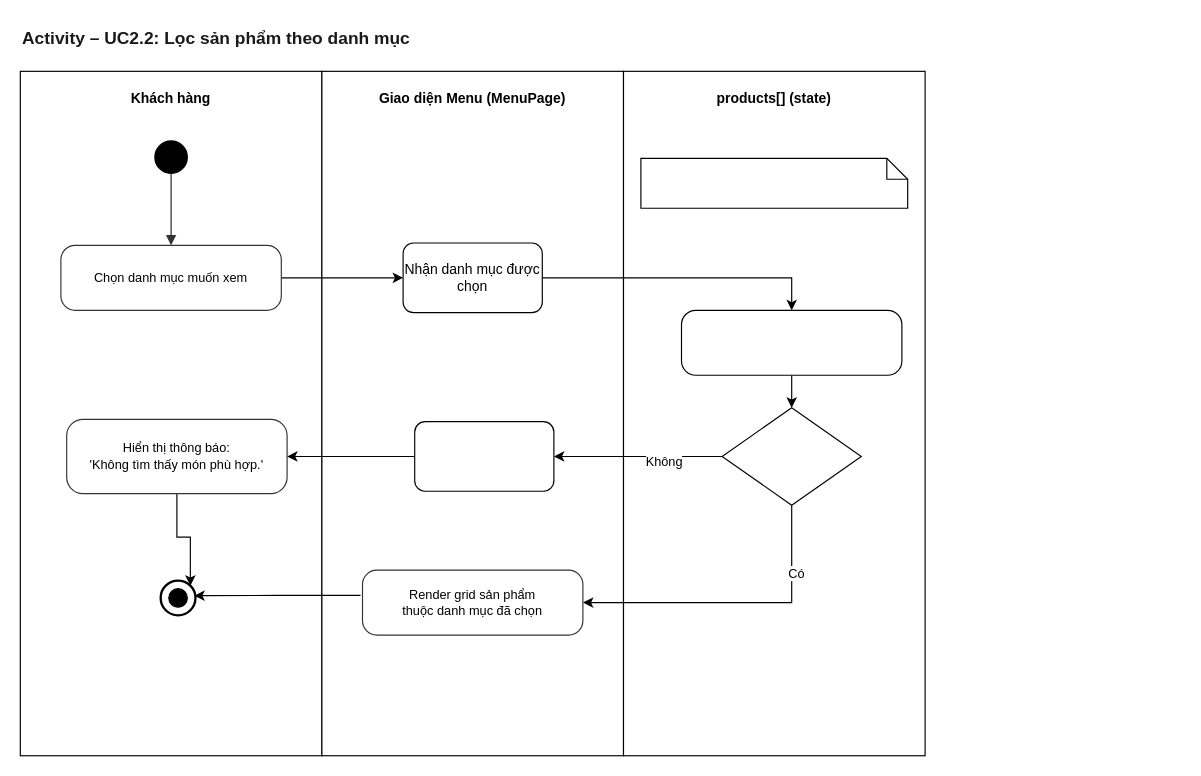
This 1201x776 diagram has some shape labels left out. The shapes that lost their labels are listed below. From the top down, each one's centre as x and y in pixels, then its label:
At point (774, 182): "Tiền điều kiện: products[] đã được nạp MỘT LẦN ở UC2.1".
At point (791, 342): "Lấy sản phẩm thuộc danh mục".
At point (484, 455): "Trả lỗi".
At point (791, 456): "Danh sách sản phẩm".
